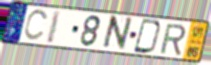8: (79, 14, 102, 48)
C: (22, 9, 50, 43)
D: (132, 18, 164, 56)
I: (45, 10, 63, 45)
N: (100, 15, 134, 52)
R: (158, 24, 187, 57)
